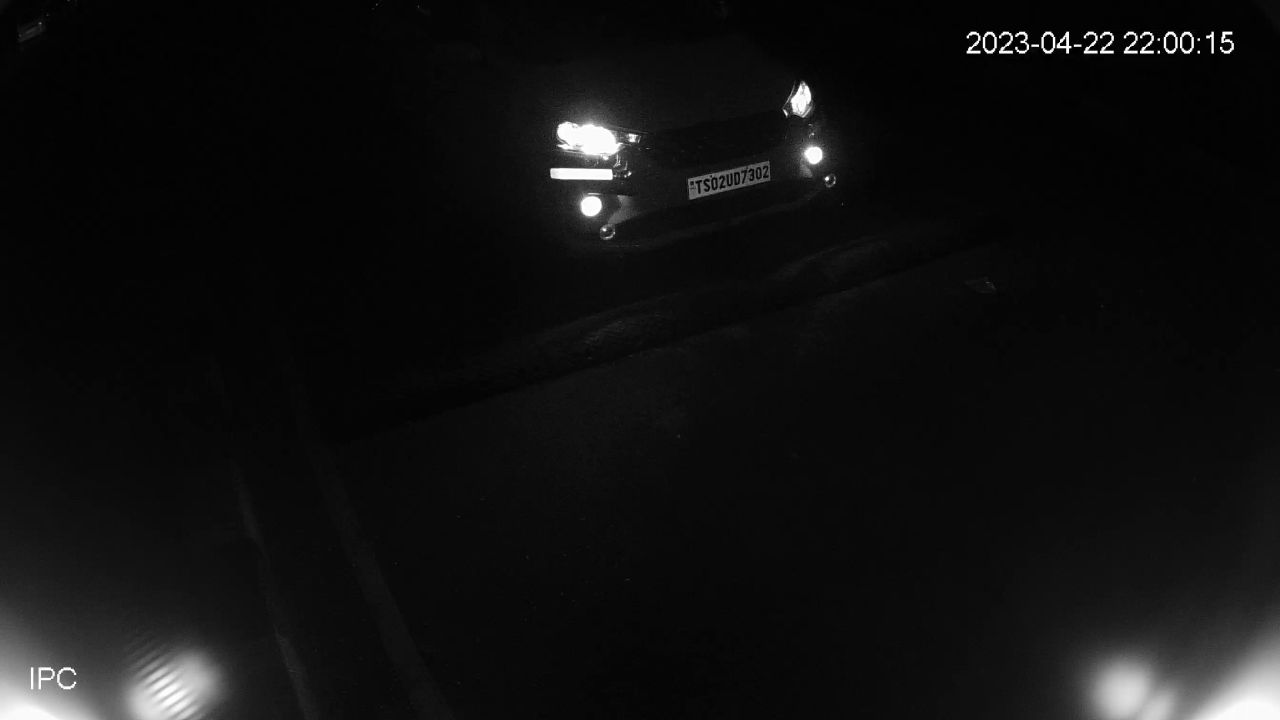license_plate: (681, 154, 777, 206)
